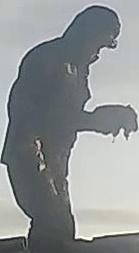gloves: (93, 101, 137, 143), (20, 137, 58, 180)
vest: (1, 34, 91, 167)
